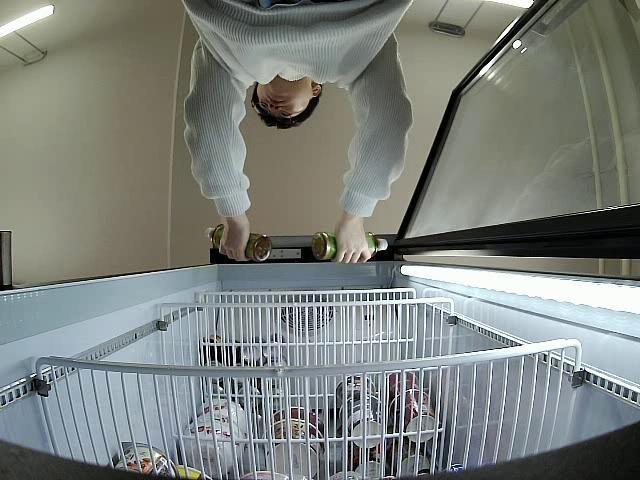19_17cha: (206, 225, 274, 263), (314, 232, 388, 261)
